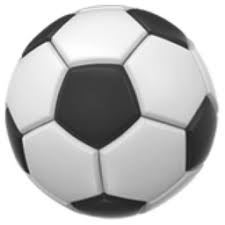football ball: (4, 3, 220, 219)
